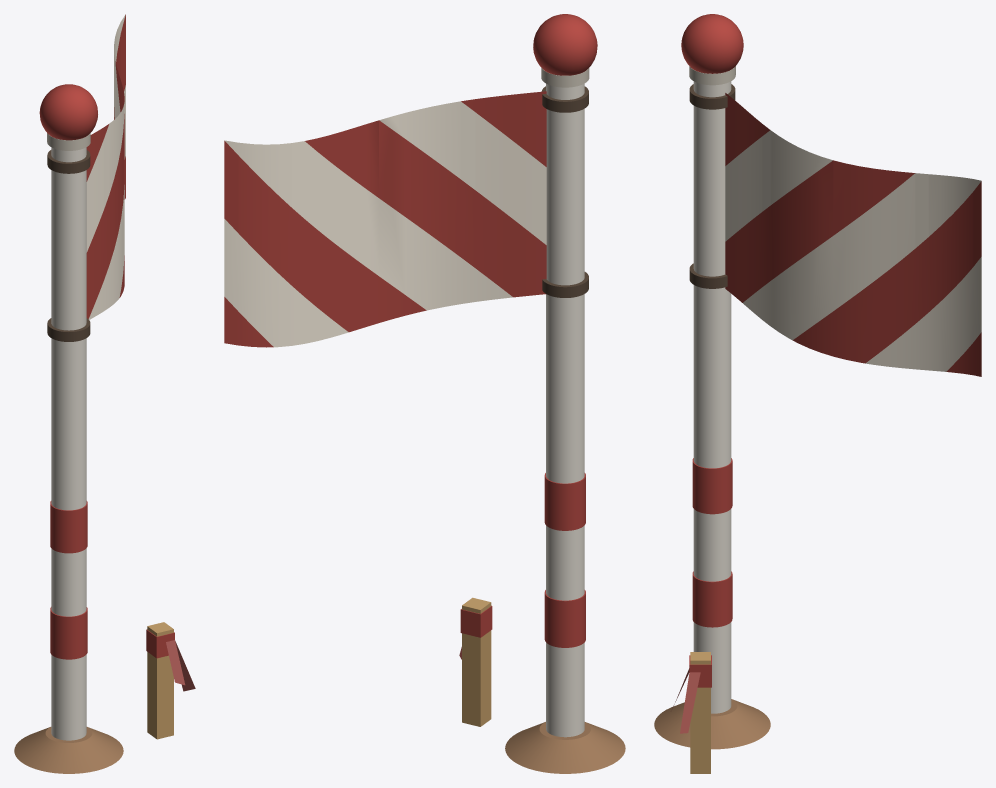
The model's file is survey-flag.glb.
3 renders of one model, left to right at view 1: azimuth 30°, elevation 25°; view 2: azimuth 150°, elevation 25°; view 3: azimuth 270°, elevation 25°, orthographic. The views are drawn at different scales.
Parts seen in each view (by area): view 1: body, cloth; view 2: cloth, body; view 3: cloth, body.
Part boxes in pixels (x1,y1,x2,y2): body: (14,84,195,773); cloth: (86,14,125,319); cloth: (224,91,546,347); body: (459,14,625,773); cloth: (725,93,981,376); body: (654,14,770,773).
Size of the model in its own units: 0.6815 by 1.88 by 0.7864.
